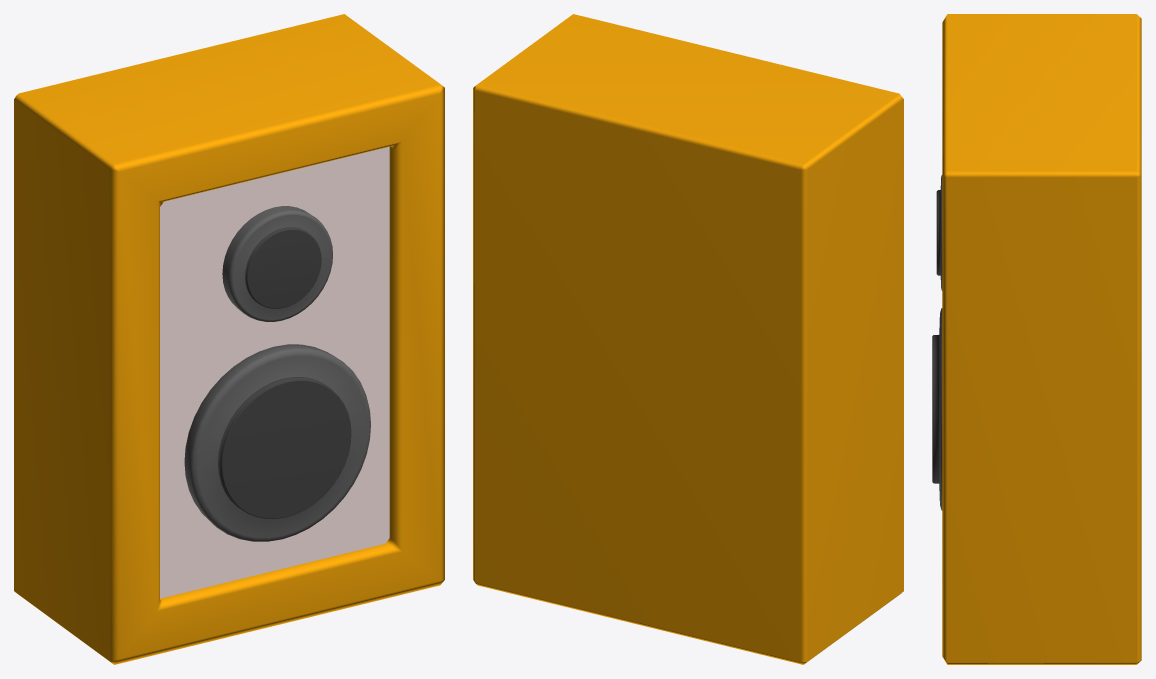
The model's file is Store_13_Speaker_1.glb.
3 renders of one model, left to right at view 1: azimuth 30°, elevation 25°; view 2: azimuth 150°, elevation 25°; view 3: azimuth 270°, elevation 25°, orthographic.
Parts seen in each view (by area): view 1: Store_13_Speaker_1; view 2: Store_13_Speaker_1; view 3: Store_13_Speaker_1.
Part boxes in pixels (left/top/right/bottom): Store_13_Speaker_1: left=14, top=14, right=444, bottom=664; Store_13_Speaker_1: left=473, top=14, right=903, bottom=664; Store_13_Speaker_1: left=932, top=14, right=1141, bottom=664.
Bounding box in the file's own units: 1.9 × 2.72 × 1.04.
Materials: 1 (1 with a texture image).
